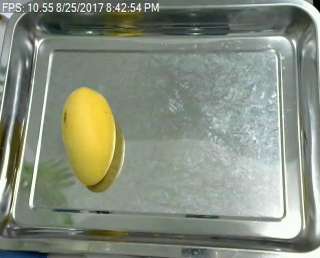Mango: (60, 84, 117, 190)
